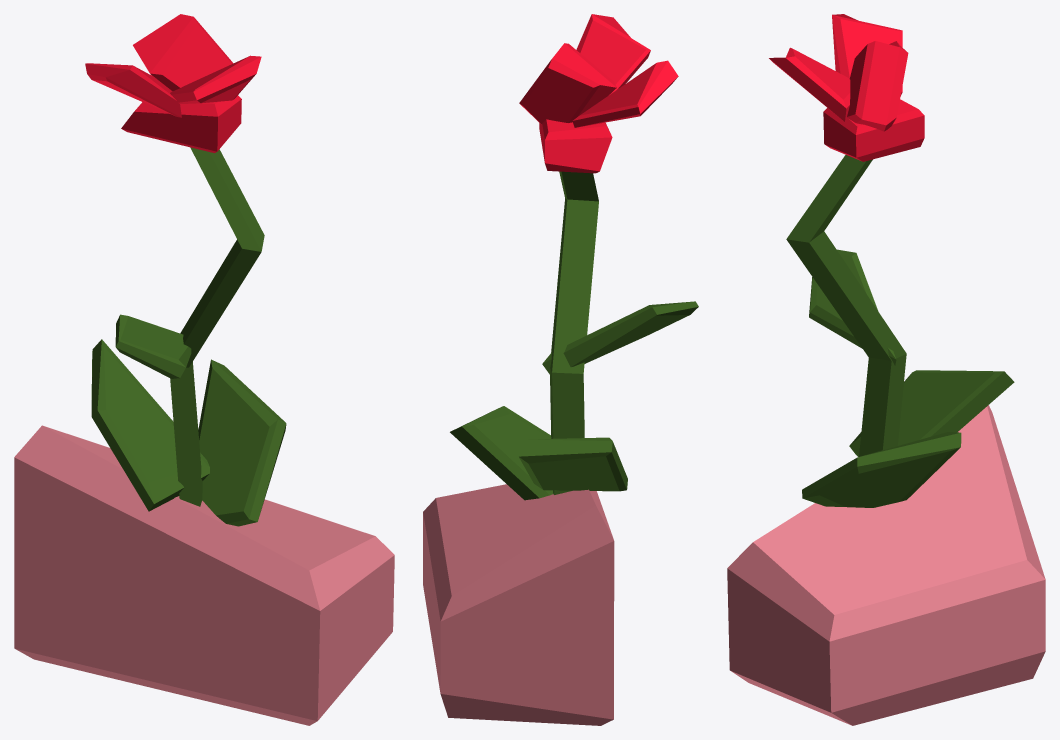
File: flowerPink.FBX
The picture shows the model from 3 angles, left to right: view 1: azimuth 30°, elevation 25°; view 2: azimuth 150°, elevation 25°; view 3: azimuth 270°, elevation 25°; orthographic projection. The views are drawn at different scales.
Parts seen in each view (by area): view 1: flower; view 2: flower; view 3: flower.
Boxes of the visible parts, <box> form: flower: <box>14,14,394,725</box>; flower: <box>423,14,698,725</box>; flower: <box>727,14,1045,725</box>.
Bounding box in the file's own units: 15.34 × 33.59 × 15.62.
